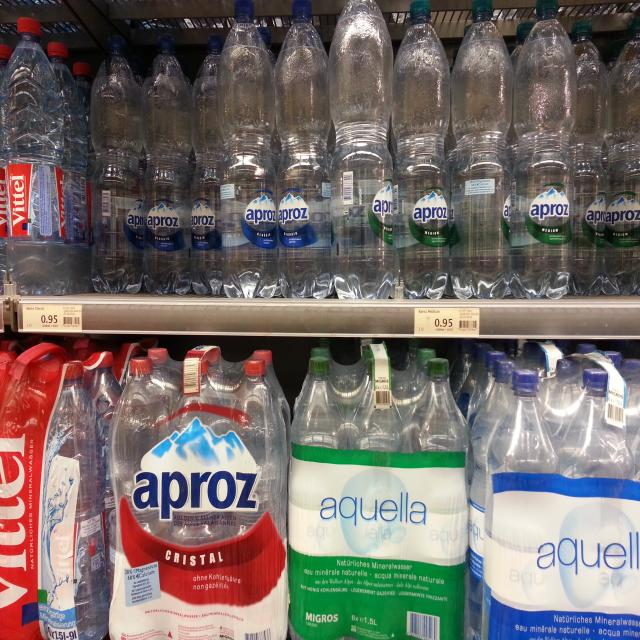Water: (284, 347, 467, 640), (110, 351, 285, 640), (469, 347, 640, 640), (0, 343, 108, 640), (331, 0, 393, 303), (6, 14, 72, 298), (452, 2, 513, 302), (513, 3, 574, 299), (394, 1, 450, 299), (278, 0, 331, 302), (225, 1, 276, 299), (92, 31, 143, 294), (142, 35, 192, 297), (606, 22, 640, 296), (574, 22, 606, 298), (192, 41, 224, 295)
